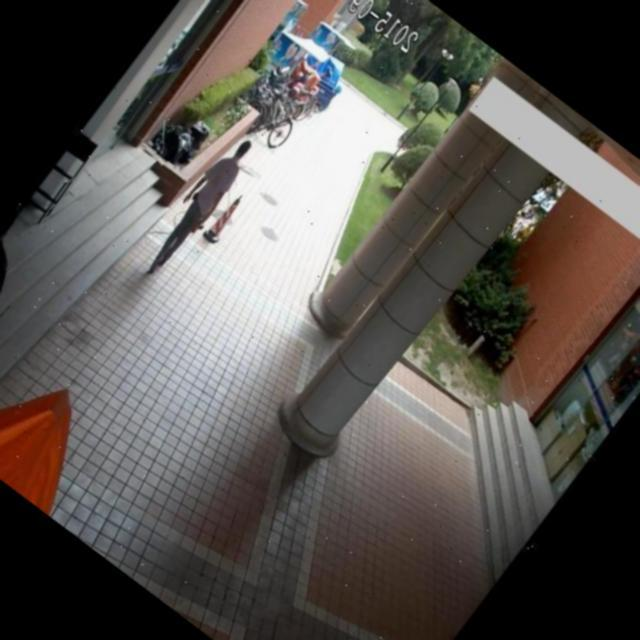person: (127, 126, 265, 292)
